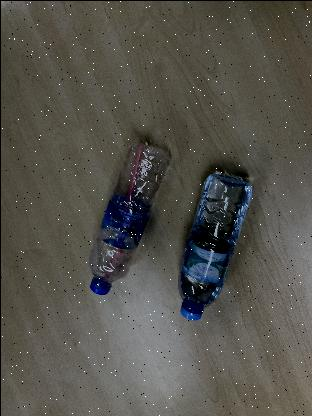Plastic Bottle: (88, 134, 170, 296), (176, 168, 252, 320)
